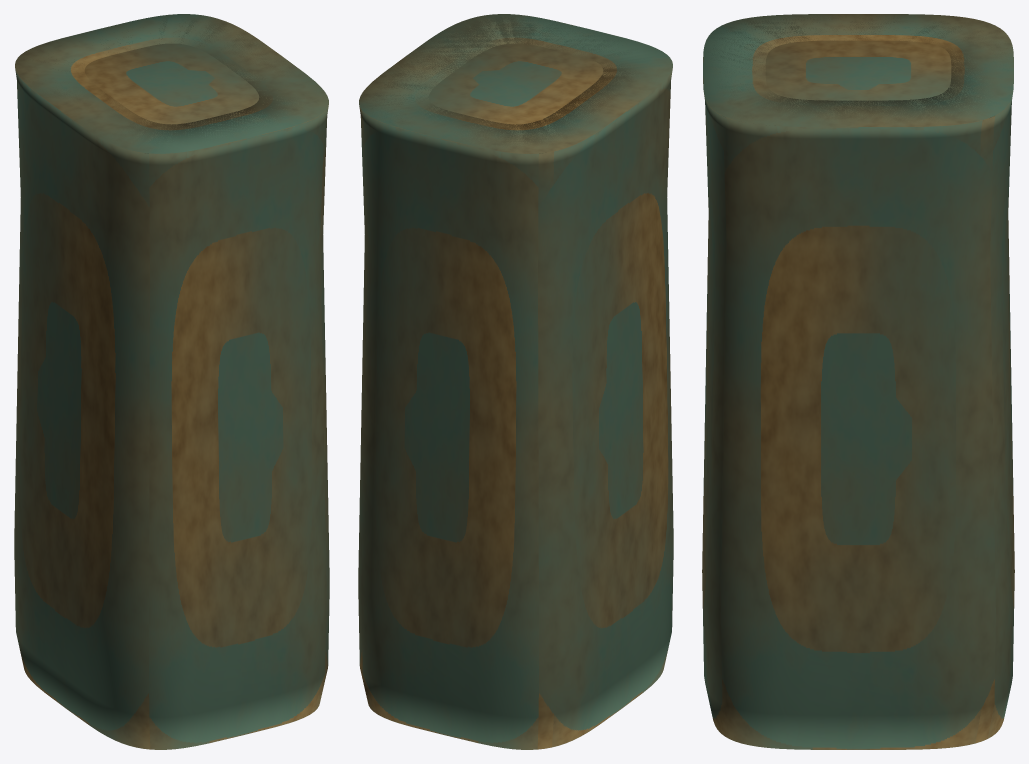
Rendered from Small hanging bell.002__n2.glb.
3 renders of one model, left to right at view 1: azimuth 30°, elevation 25°; view 2: azimuth 150°, elevation 25°; view 3: azimuth 270°, elevation 25°, orthographic. The views are drawn at different scales.
Parts seen in each view (by area): view 1: Small hanging bell.002; view 2: Small hanging bell.002; view 3: Small hanging bell.002.
Part boxes in pixels (x1,y1,x2,y2): Small hanging bell.002: (14,14,329,749); Small hanging bell.002: (358,14,673,749); Small hanging bell.002: (702,14,1014,749).
Bounding box in the file's own units: 0.2258 × 0.58 × 0.2626.
Materials: 1 (1 with a texture image).
